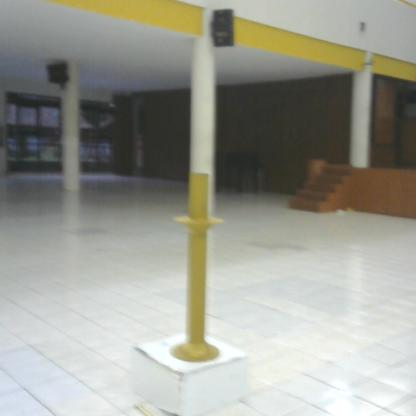pole: (171, 169, 226, 376)
